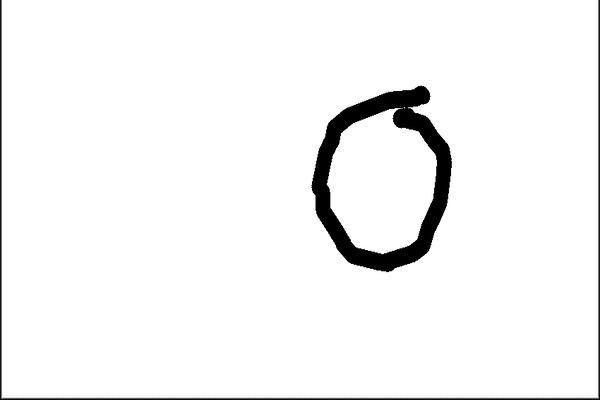O: (292, 76, 459, 276)
